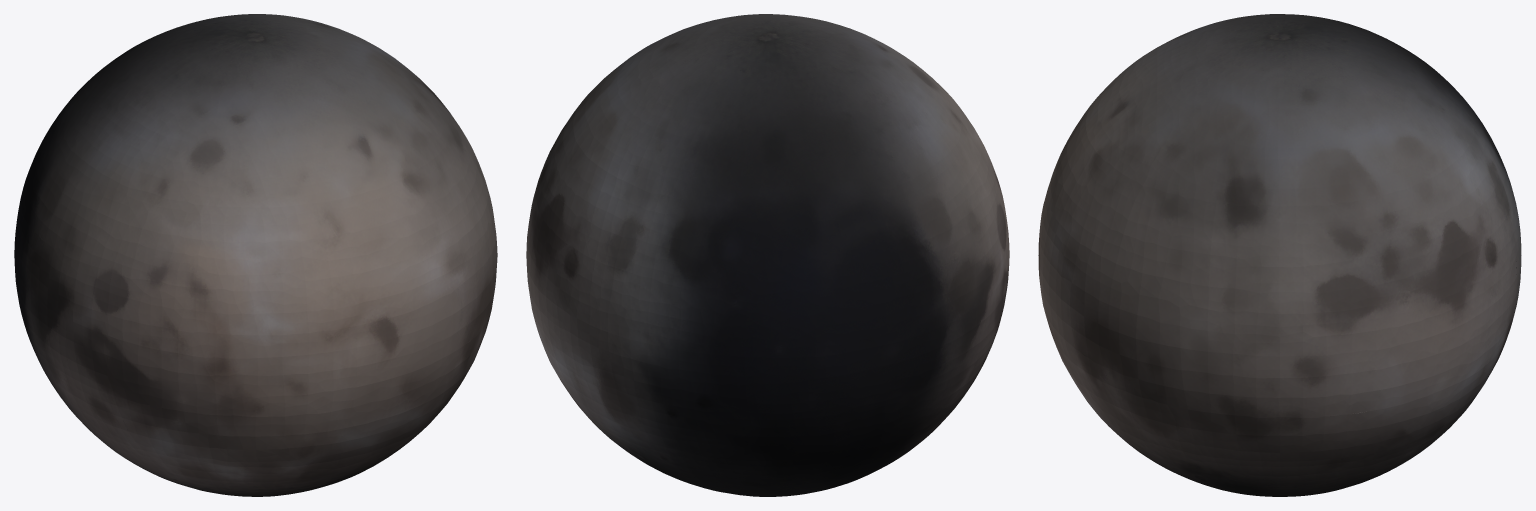
The picture shows the model from 3 angles, left to right: view 1: azimuth 30°, elevation 25°; view 2: azimuth 150°, elevation 25°; view 3: azimuth 270°, elevation 25°; orthographic projection.
Parts seen in each view (by area): view 1: world; view 2: world; view 3: world.
Part boxes in pixels (x1,y1,x2,y2): world: [14, 14, 497, 496]; world: [526, 14, 1009, 496]; world: [1038, 14, 1521, 496].
Size of the model in its own units: 0.9991 by 1 by 0.9988.
Materials: 1 (1 with a texture image).
